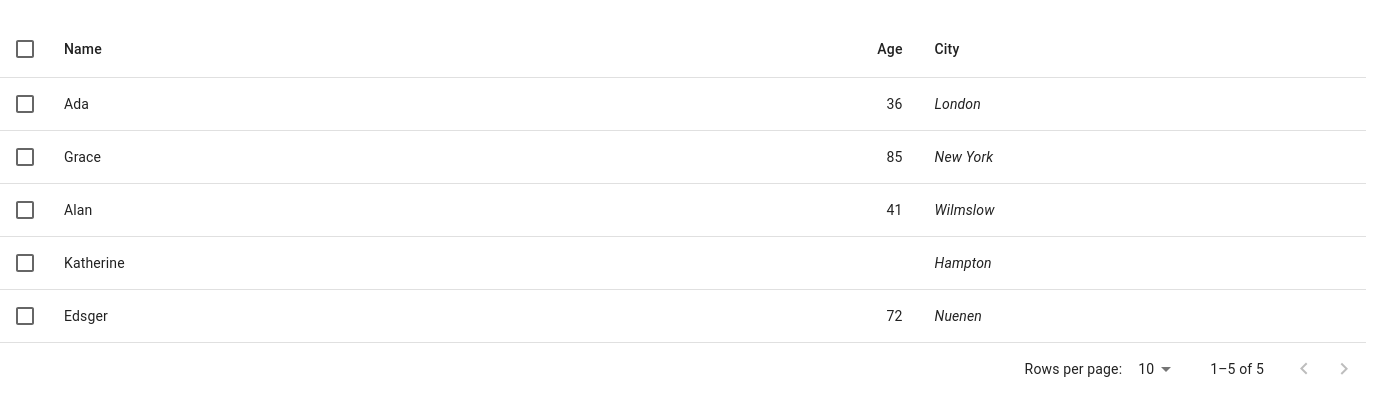
Test: <DataTable> › renders the selection status region before anything is selected
Click the checkbox named "Select 1".
click(25, 104)  # box x1=13 y1=92 x2=37 y2=116
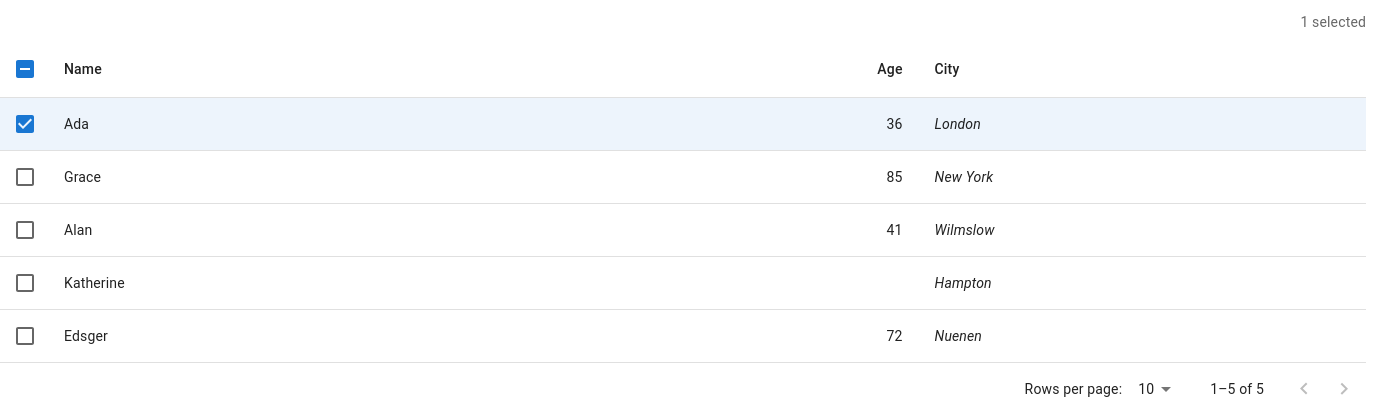
Expected: the message reads "1 selected", x1=1300 y1=14 x2=1366 y2=30
